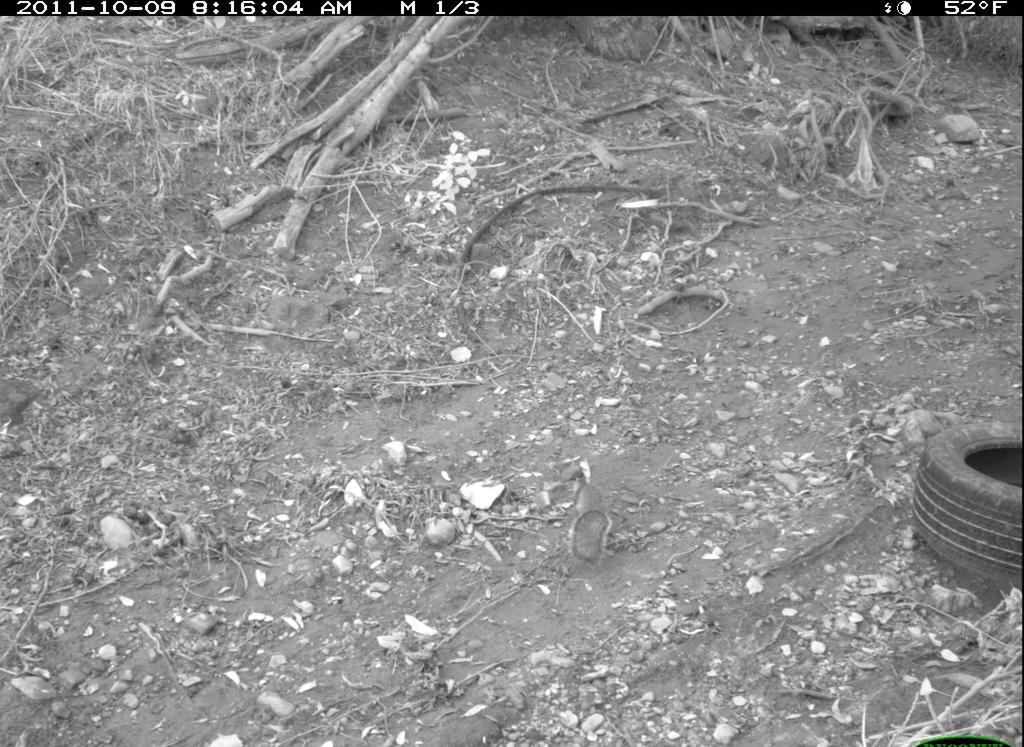squirrel: (559, 464, 614, 562)
